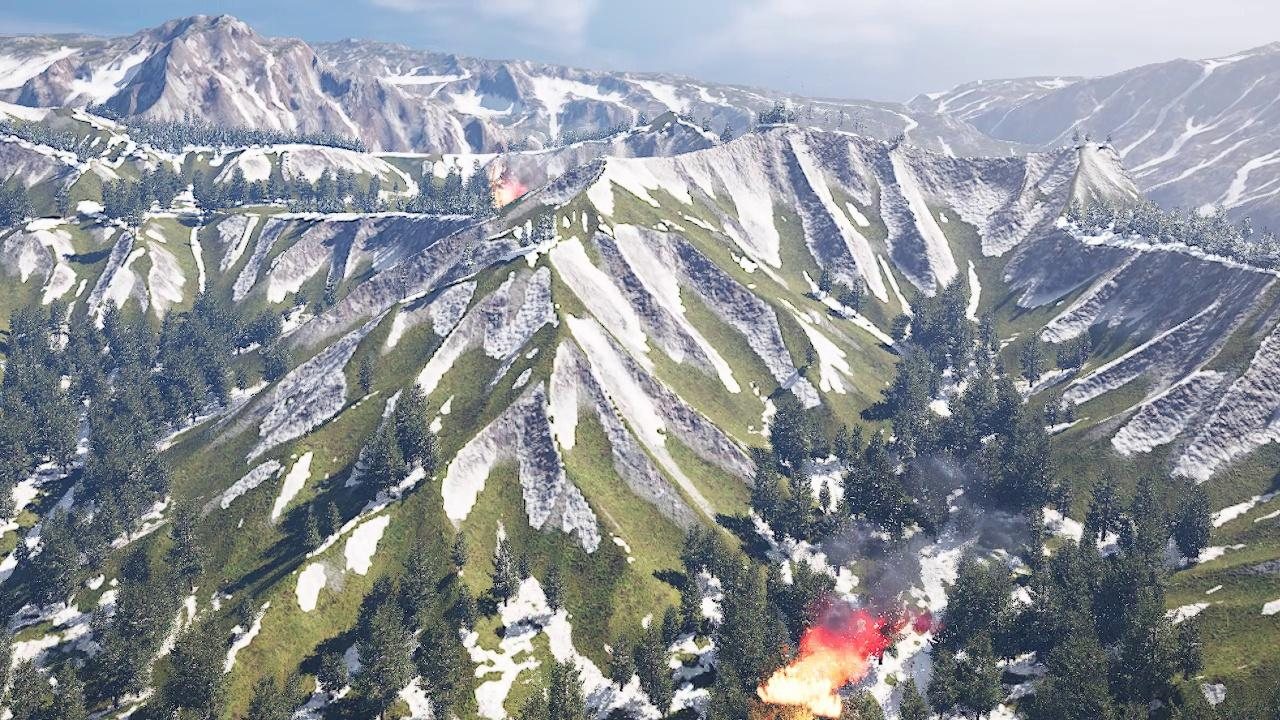fire: (757, 648, 851, 720), (492, 178, 523, 205)
smoke: (801, 597, 936, 661), (498, 152, 570, 187)
